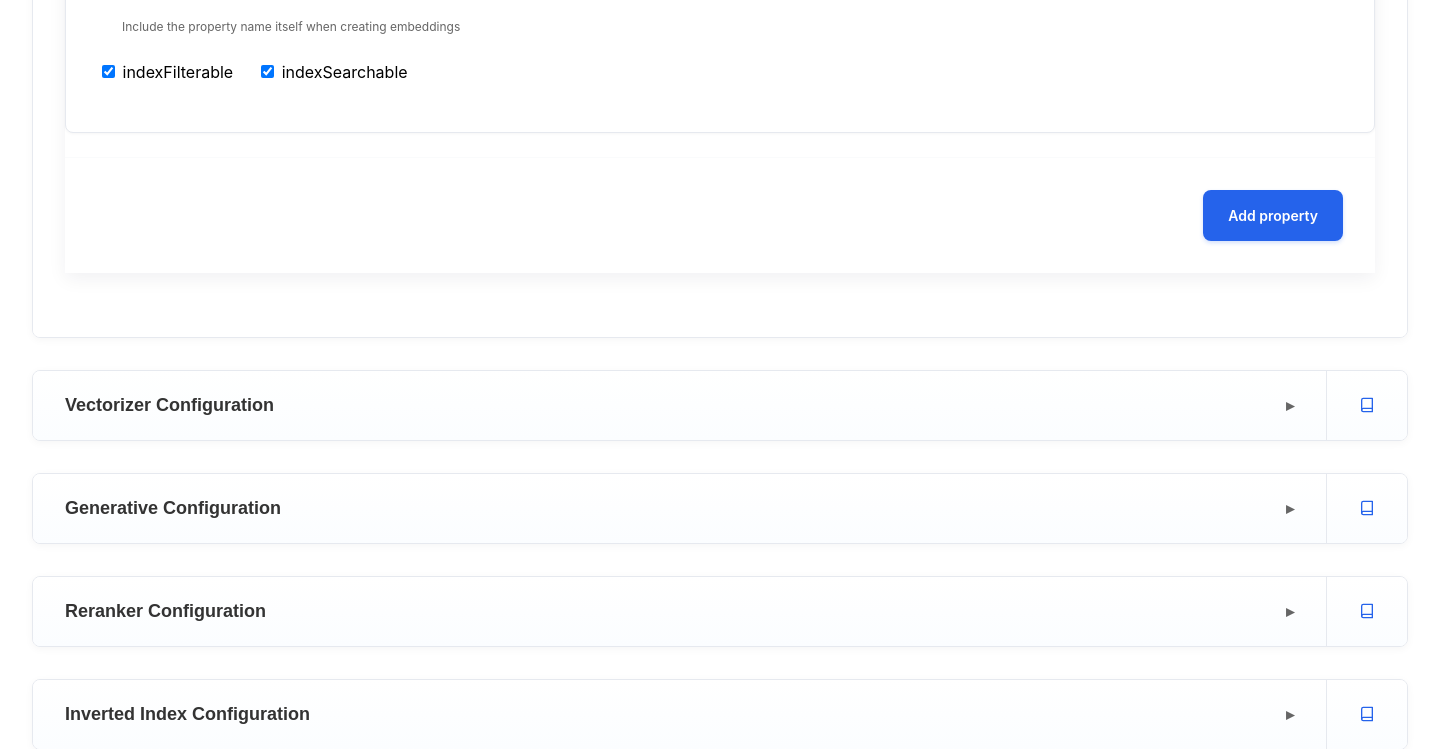
Test: Collection - Quantization Import Tests › should import HNSW with RQ quantization and render it correctly in the form
(page scrolled)
Expand vector config section
Step 1. Click the button "Vectorizer Configuration ▸" → (170, 405), box [33,371,1326,440]
(page scrolled)
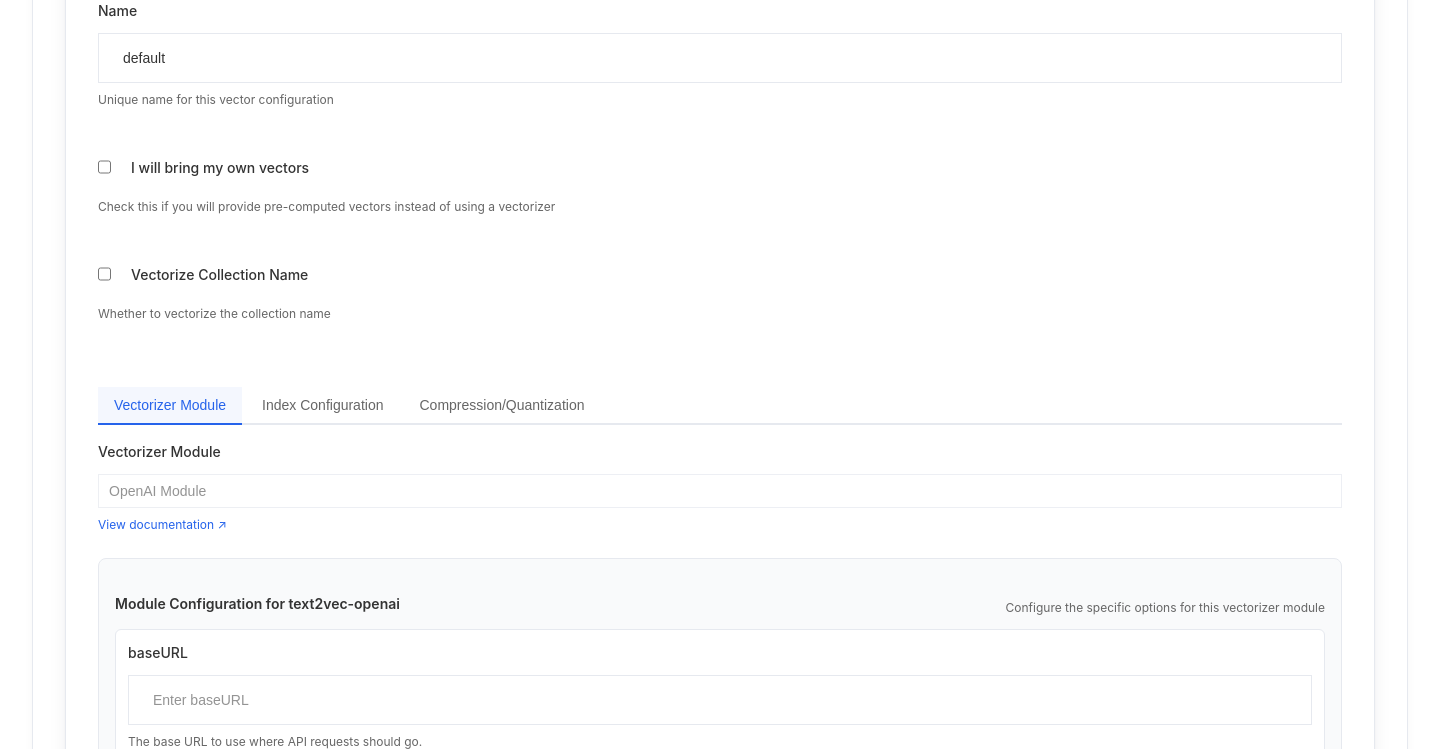
Click on Compression/Quantization tab
Step 2. Click the button "Compression/Quantization" → (502, 406), box [404,386,600,424]
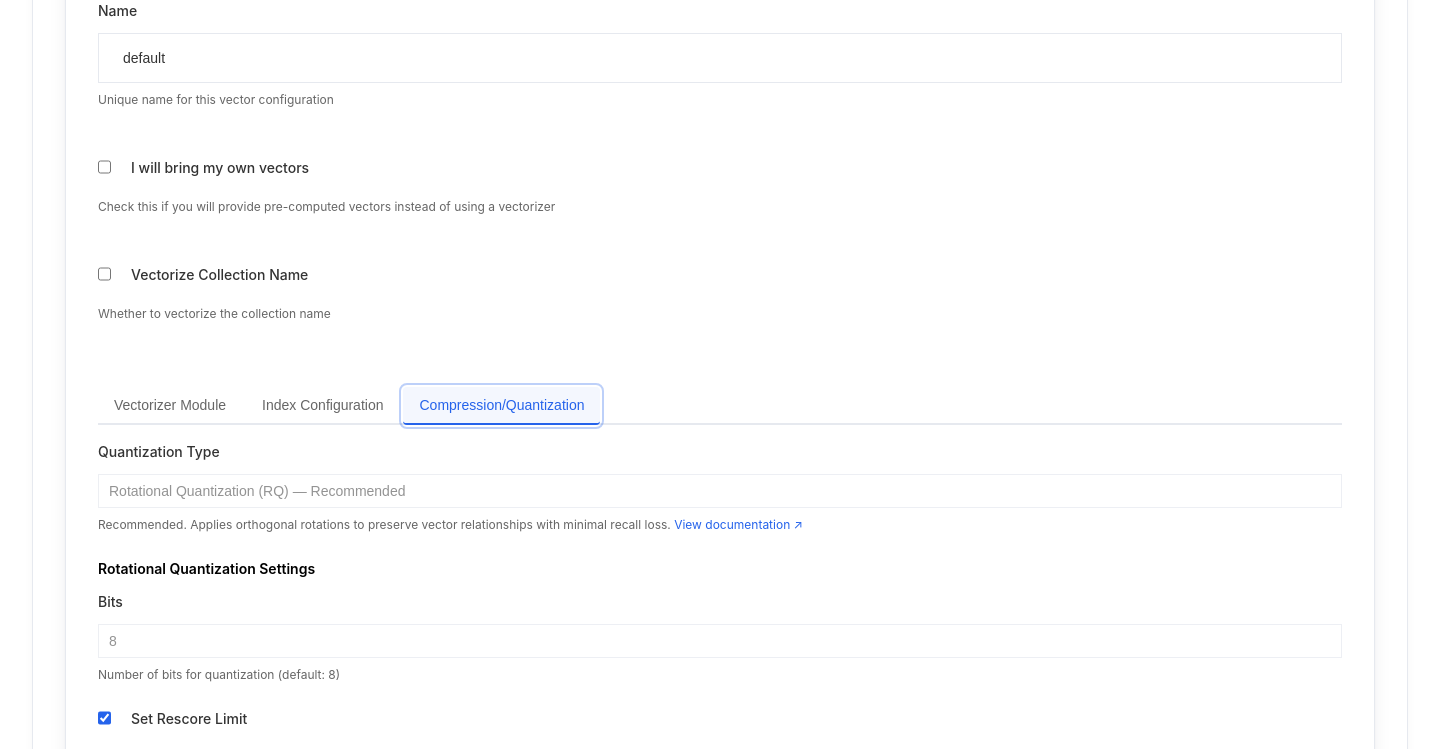
Expected: the dropdown labelled "Quantization Type" shows "Rotational Quantization (RQ) — Recommended", [98,474,1342,508]
